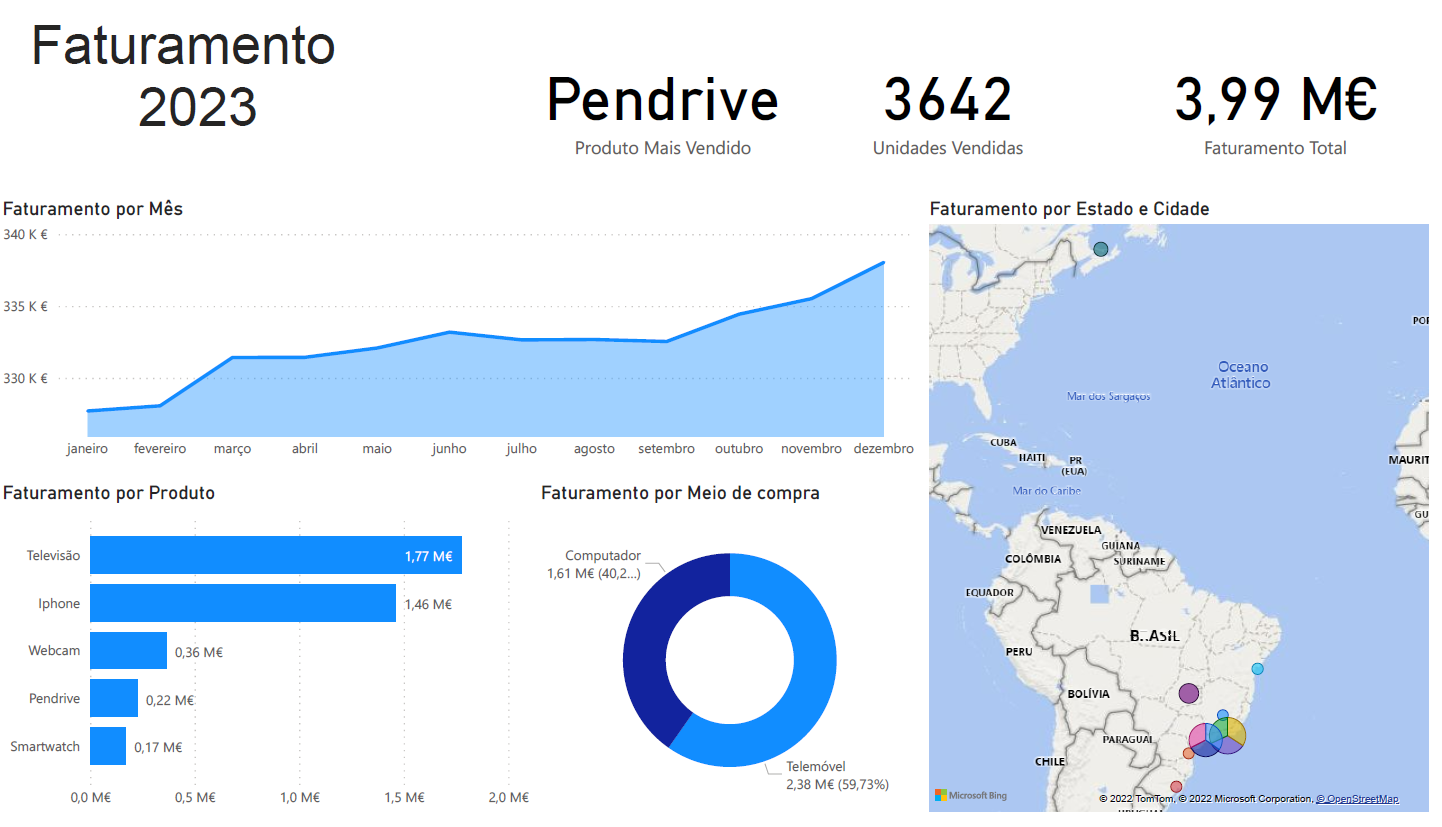

The dashboard page shown, as its layout file describes it:
{"tool":"powerbi","page":{"name":"Relatório 1","canvas":[1280,720],"ordinal":0},"visuals":[{"type":"card","fields":{"Values":["Sum(Relatório de Vendas.Venda Total)"]},"box":[996,0,283.3,168],"z":0},{"type":"card","fields":{"Values":["Sum(Relatório de Vendas.Qtd vendida)"]},"box":[696.6,0,299.4,168],"z":1000},{"type":"card","fields":{"Values":["Min(Relatório de Vendas.Produto)"]},"box":[413.3,0,359.3,168],"z":2000},{"type":"barChart","title":"Faturamento por Produto","fields":{"Category":["Relatório de Vendas.Produto"],"Y":["Sum(Relatório de Vendas.Venda Total)"]},"box":[0,420.6,479,299.4],"z":3000},{"type":"areaChart","title":"Faturamento por Mês","fields":{"Y":["Sum(Relatório de Vendas.Venda Total)"],"Category":["Relatório de Vendas.Data.Variação.Hierarquia de Datas.Mês"]},"box":[0,168,825.2,242.4],"z":4000},{"type":"donutChart","title":"Faturamento por Meio de compra","fields":{"Y":["Sum(Relatório de Vendas.Venda Total)"],"Category":["Relatório de Vendas.Meio de compra"]},"box":[479,420.6,346.1,299.4],"z":5000},{"type":"map","title":"Faturamento por Estado e Cidade","fields":{"Category":["Relatório de Vendas.Estado"],"Size":["Sum(Relatório de Vendas.Venda Total)"],"Series":["Relatório de Vendas.Cidade"]},"box":[825.2,168,454.2,552],"z":6000},{"type":"textbox","box":[0,0,357.8,168],"z":7000}]}

Visuals, with their boxes in screenshot pixels (x1, y1, x2, y2), scaled from the page's 1280x720 canvas onto the 1442x827 screenshot:
card - Sum(Relatório de Vendas.Venda Total): [x1=1122, y1=0, x2=1441, y2=193]
card - Sum(Relatório de Vendas.Qtd vendida): [x1=785, y1=0, x2=1122, y2=193]
card - Min(Relatório de Vendas.Produto): [x1=466, y1=0, x2=870, y2=193]
"Faturamento por Produto" barChart: [x1=0, y1=483, x2=540, y2=826]
"Faturamento por Mês" areaChart: [x1=0, y1=193, x2=930, y2=471]
"Faturamento por Meio de compra" donutChart: [x1=540, y1=483, x2=930, y2=826]
"Faturamento por Estado e Cidade" map: [x1=930, y1=193, x2=1441, y2=826]
textbox: [x1=0, y1=0, x2=403, y2=193]
